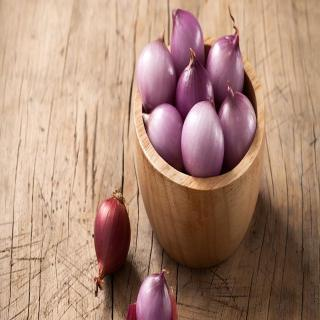Bawang Merah: (137, 7, 258, 178), (94, 188, 132, 297)
